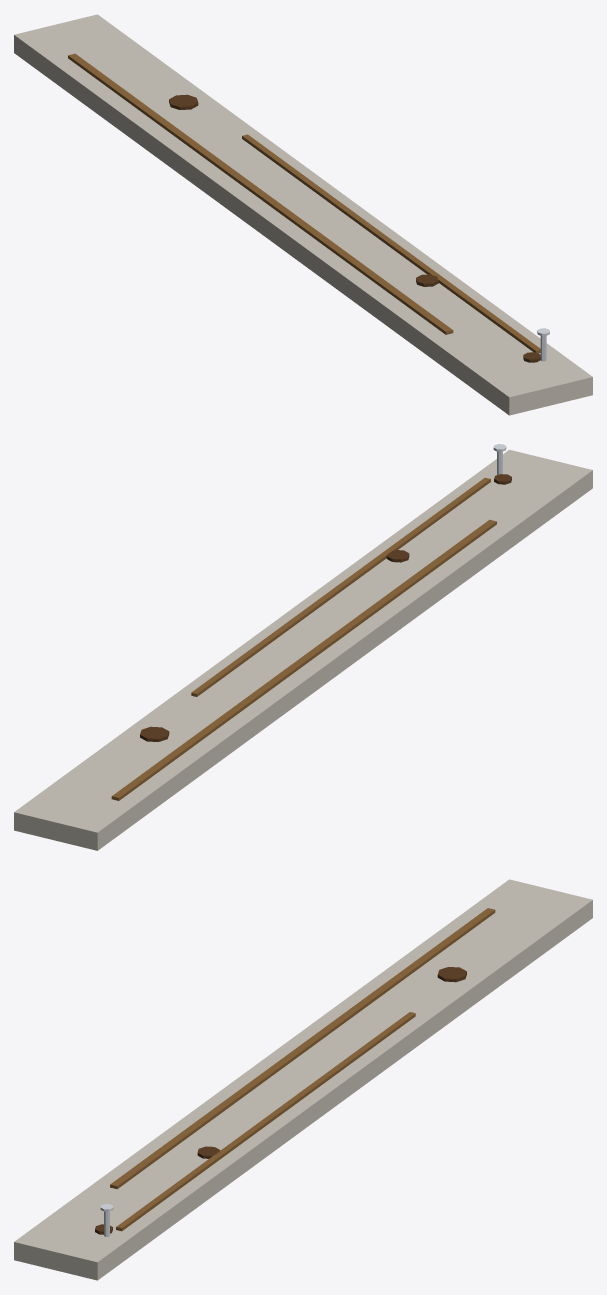
Rendered from plank.glb.
3 renders of one model, top to bottom at view 1: azimuth 30°, elevation 25°; view 2: azimuth 150°, elevation 25°; view 3: azimuth 330°, elevation 25°, orthographic.
Visible parts, largest first — view 1: plank; view 2: plank; view 3: plank.
Boxes of the visible parts, x1,y1,x2,y2 form: plank: (14,14,592,415); plank: (14,444,592,850); plank: (14,879,592,1280).
Bounding box in the file's own units: 0.115 × 0.0625 × 1.18.
